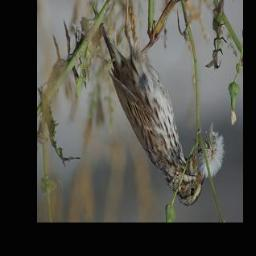Sparrow: (92, 5, 207, 208)
